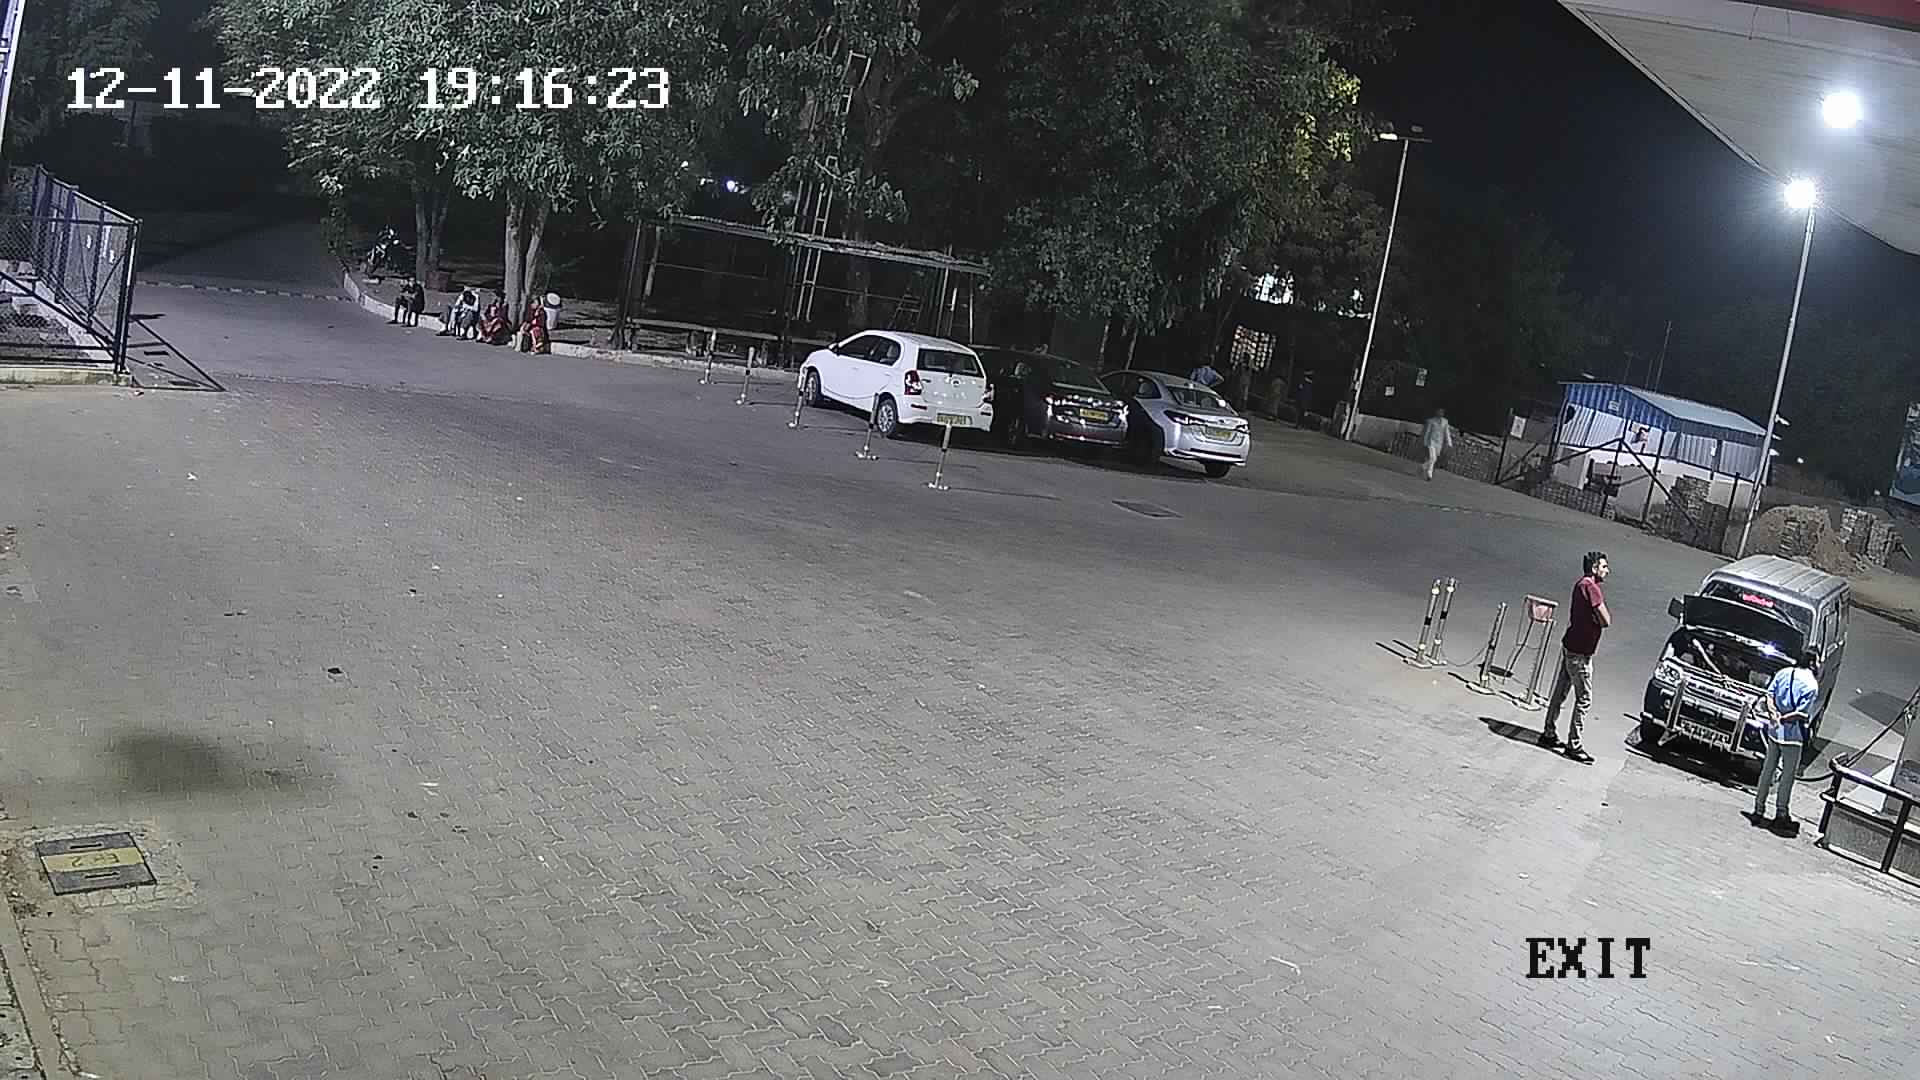Bike: (339, 198, 430, 295)
Car: (1621, 547, 1855, 798), (789, 324, 1006, 454), (964, 338, 1147, 471), (1092, 356, 1251, 483)
Others: (1739, 638, 1832, 847)
